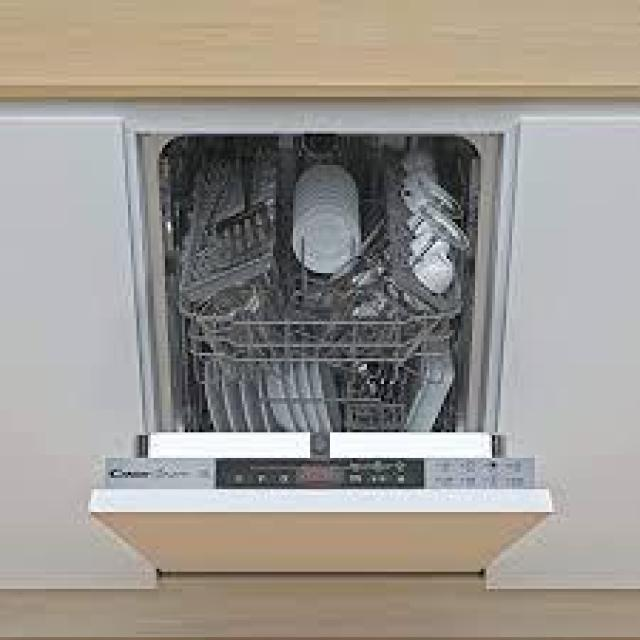dishwasher: (80, 83, 560, 583)
